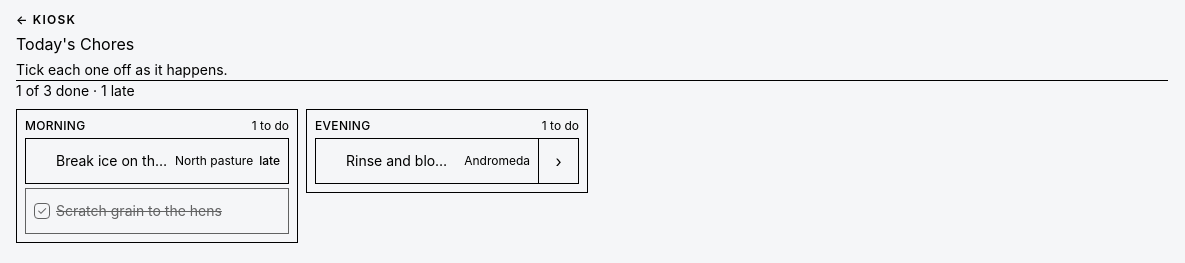
Scenario: Today's Chores on a kiosk › opens a long instruction without counting that as doing it
The width and height of the screenshot is (1185, 263).
What coordinates should you click on to do the following:
click the button named "Show the whole detail"
I would click on:
 (558, 161)
Its box is [538,139,578,183].
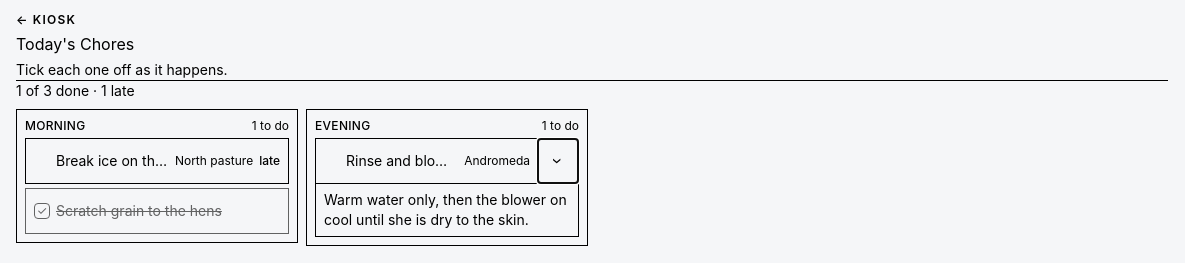
Result: the text "Warm water only" is shown at [324,191,571,228]
